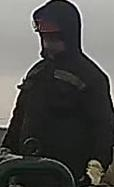gloves: (79, 156, 109, 187)
helmet: (30, 10, 68, 34)
vest: (18, 56, 113, 158)
